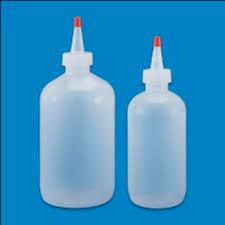Plastic: (38, 11, 117, 209), (126, 35, 190, 210)
